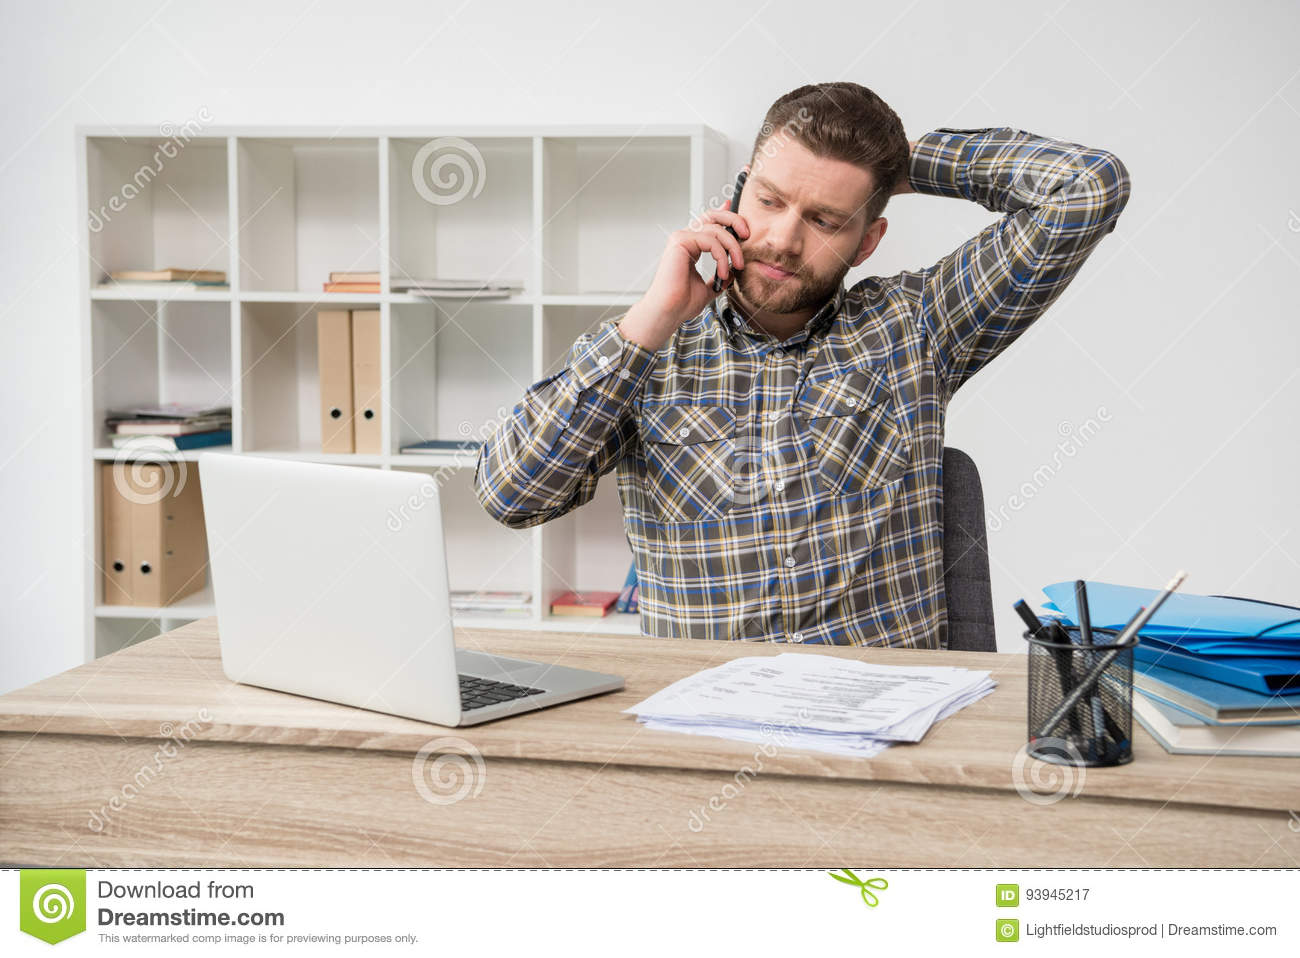phone: (708, 168, 751, 302)
talk: (644, 161, 860, 352)
